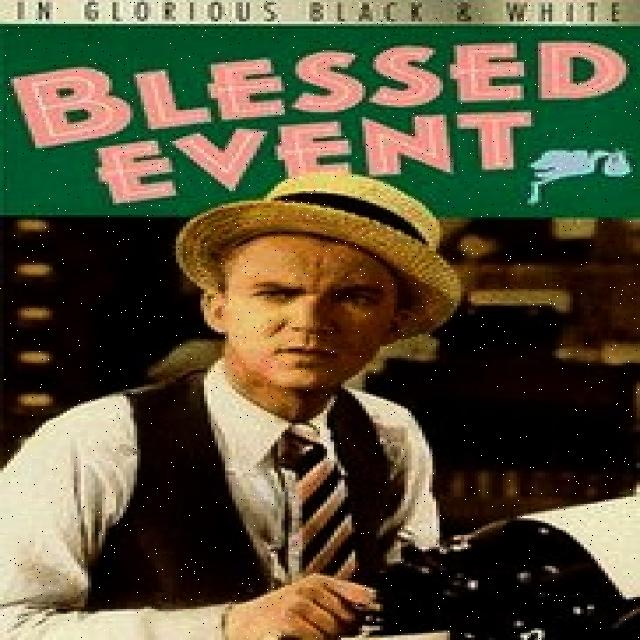movie-judul: (0, 21, 640, 218)
picture: (0, 172, 640, 640)
